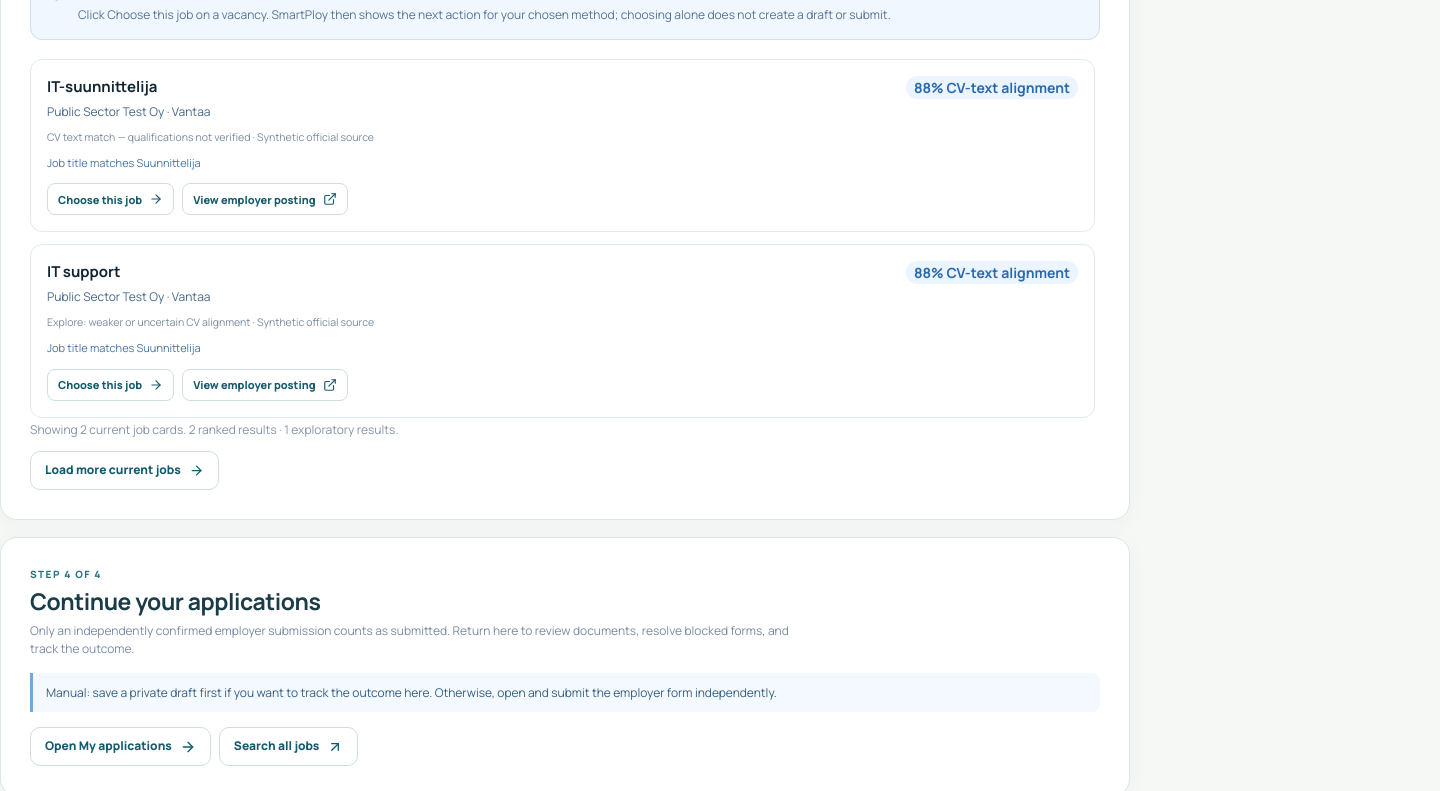
SP21 application journey › never publishes a late page from another signed-in account
The width and height of the screenshot is (1440, 791).
(page scrolled)
Expected: the heading "IT-suunnittelija" is shown, [47,76,158,97]
Click the button "Load more current jobs".
click(124, 470)  # box [30,451,219,490]
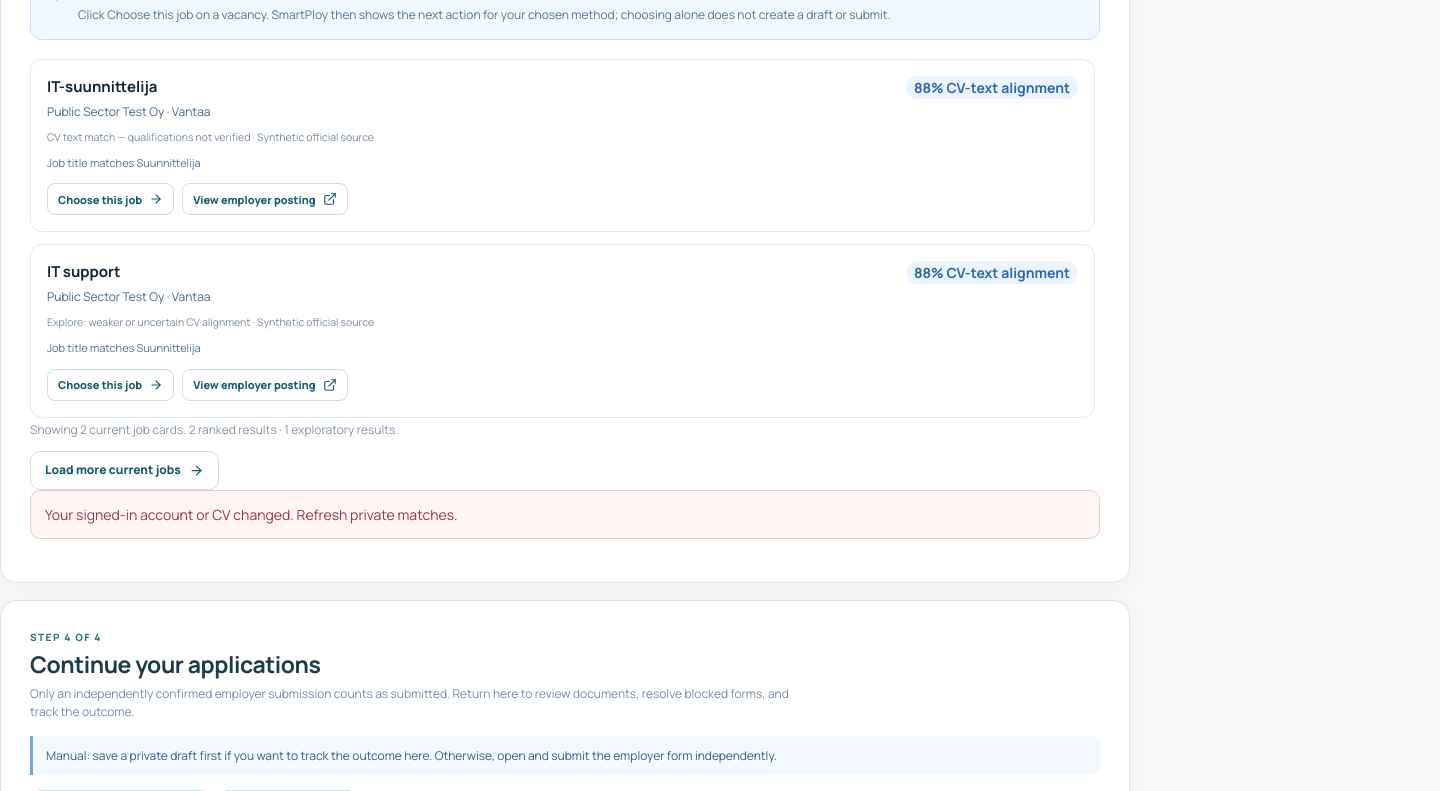
Expected: the message "Your signed-in account or CV changed. Refresh private matches." is shown, [30,490,1100,539]
